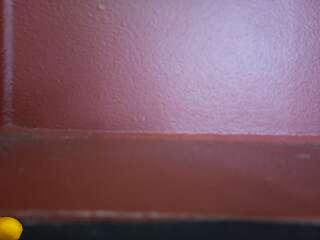Lemon: (0, 215, 25, 240)
